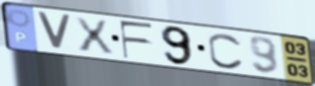9: (159, 25, 197, 67), (247, 34, 281, 76)
C: (206, 31, 246, 71)
F: (117, 19, 156, 60)
V: (34, 10, 74, 53)
X: (71, 15, 117, 56)
